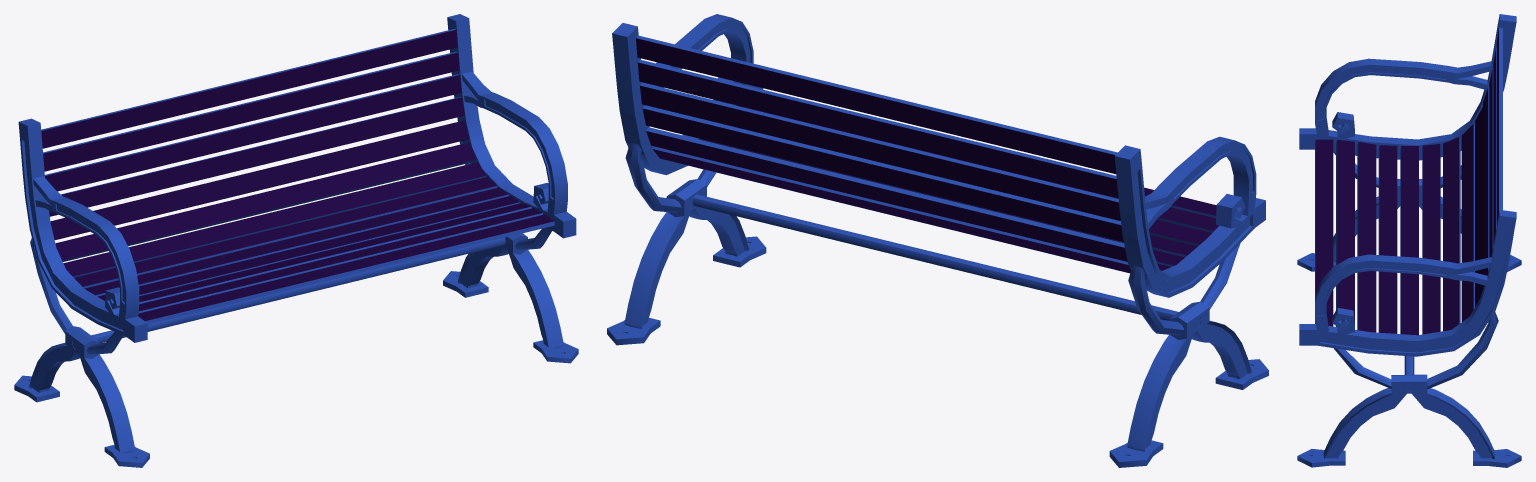
Rendered from Bench_LODGroup.fbx.
3 renders of one model, left to right at view 1: azimuth 30°, elevation 25°; view 2: azimuth 150°, elevation 25°; view 3: azimuth 270°, elevation 25°, orthographic. The views are drawn at different scales.
Visible parts, largest first — view 1: Bench_LOD0; view 2: Bench_LOD0; view 3: Bench_LOD0.
Boxes of the visible parts, bbox=[...] form: Bench_LOD0: bbox=[14, 14, 578, 467]; Bench_LOD0: bbox=[607, 14, 1268, 467]; Bench_LOD0: bbox=[1297, 14, 1521, 467].
Size of what is drawn, in the model's own units: 402 by 221 by 181.
